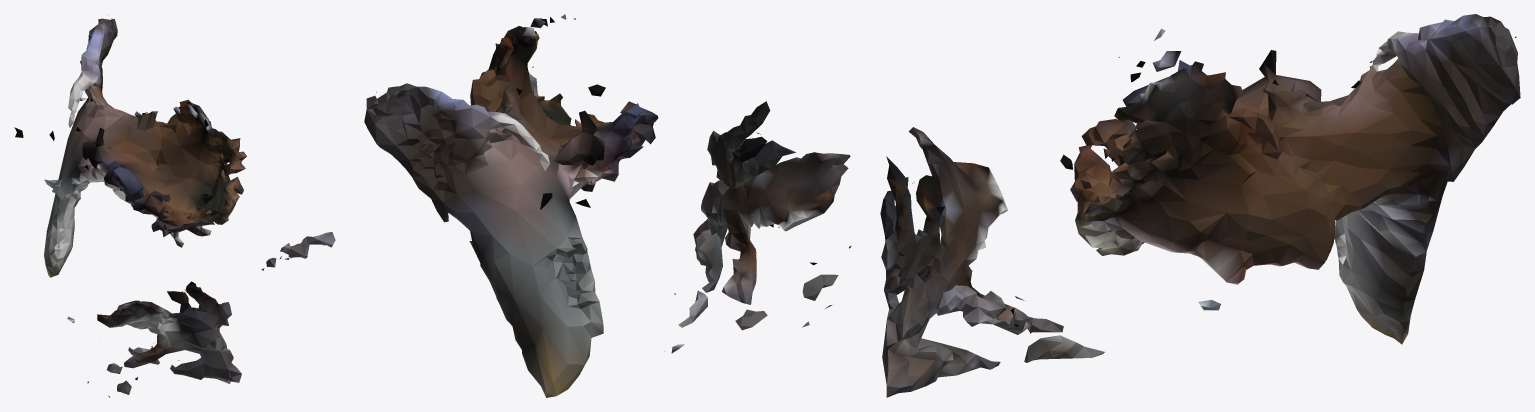
3 views of the same model, side by side, from view 1: azimuth 30°, elevation 25°; view 2: azimuth 150°, elevation 25°; view 3: azimuth 270°, elevation 25° (orthographic). The views are drawn at different scales.
Size of the model in its own units: 442 by 436 by 611.
